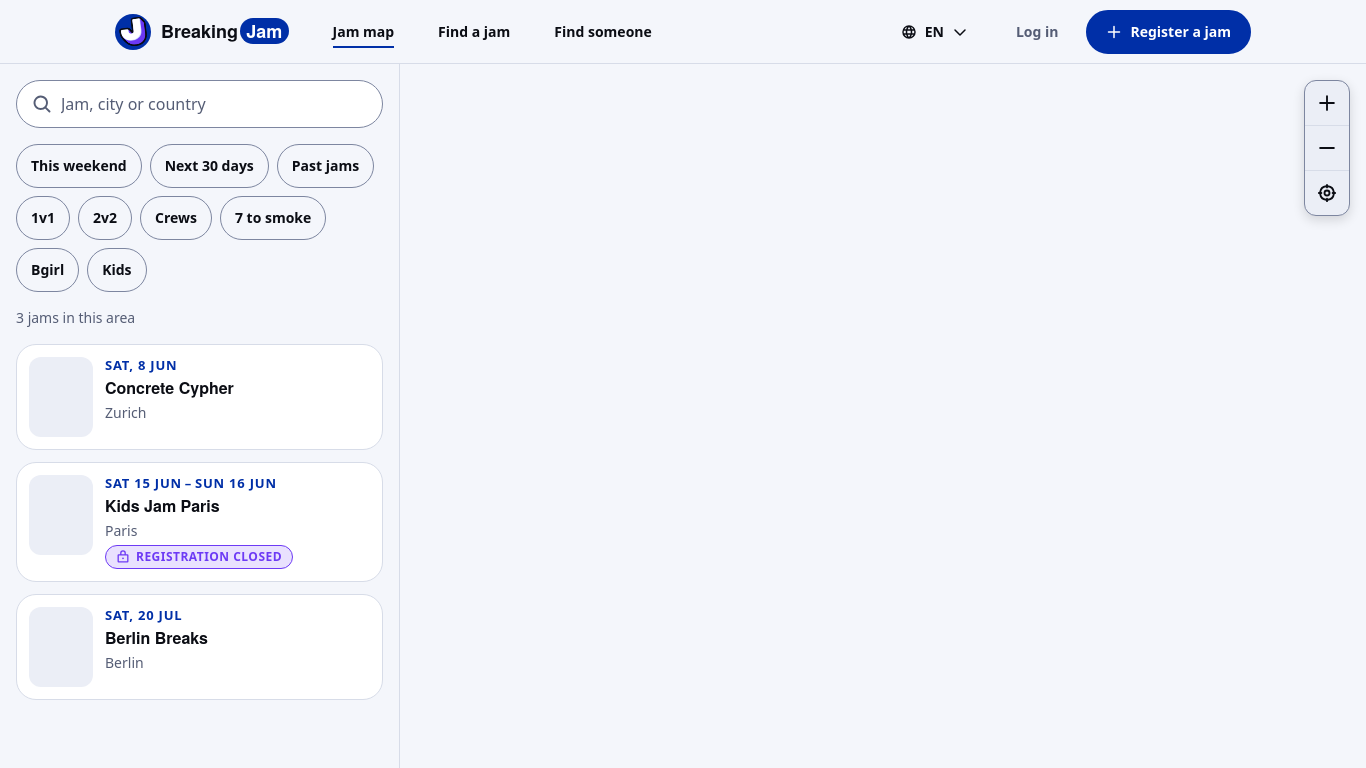
Test case: MapPage › says when nothing is in view and clears filters and search
expect the text "3 jams in this area" is shown: met, box [16,308,135,327]
Step 1. Type "nowhere" into the search field named "Search jams" → [200, 104], box [16,80,383,128]
Then press Enter
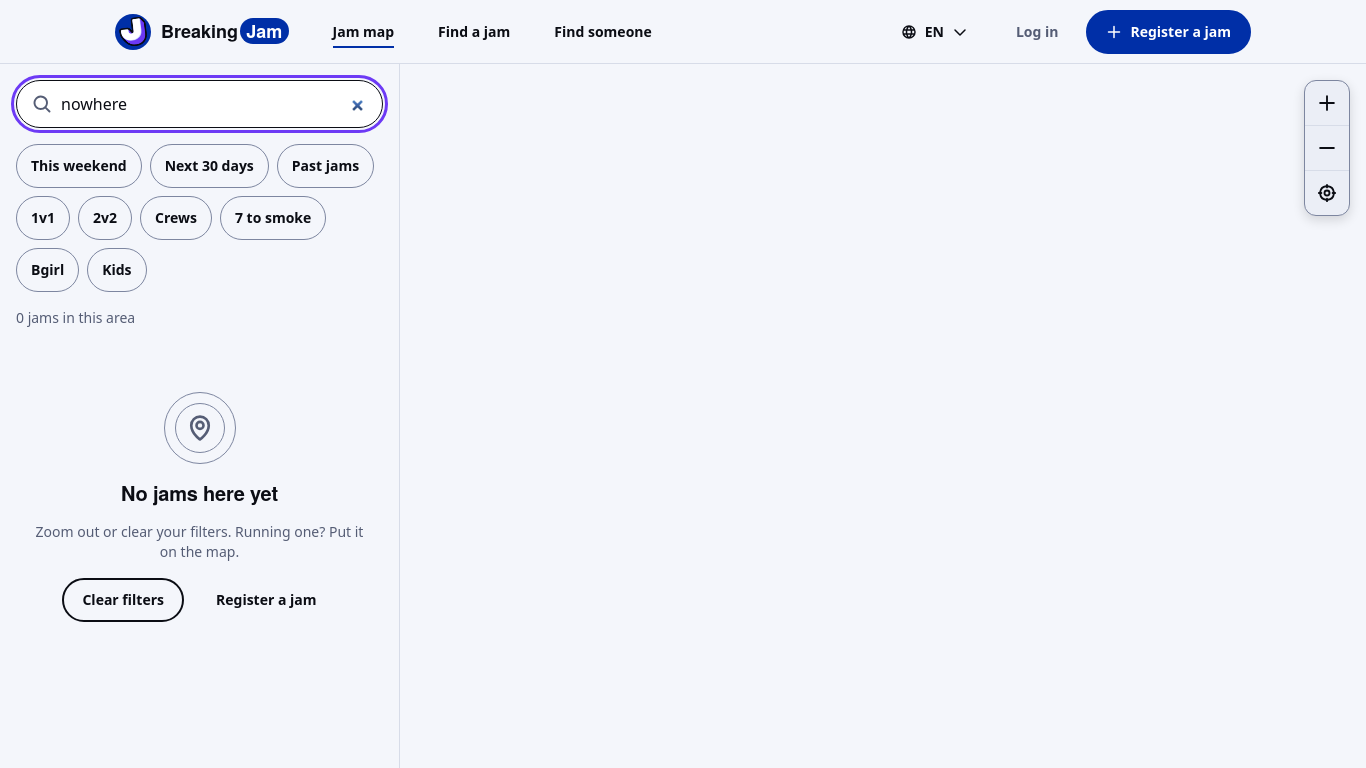
expect the heading "No jams here yet" is shown: met, box [121,480,278,506]
Step 2. Click the button "Clear filters" → [123, 600], box [62,578,184,622]
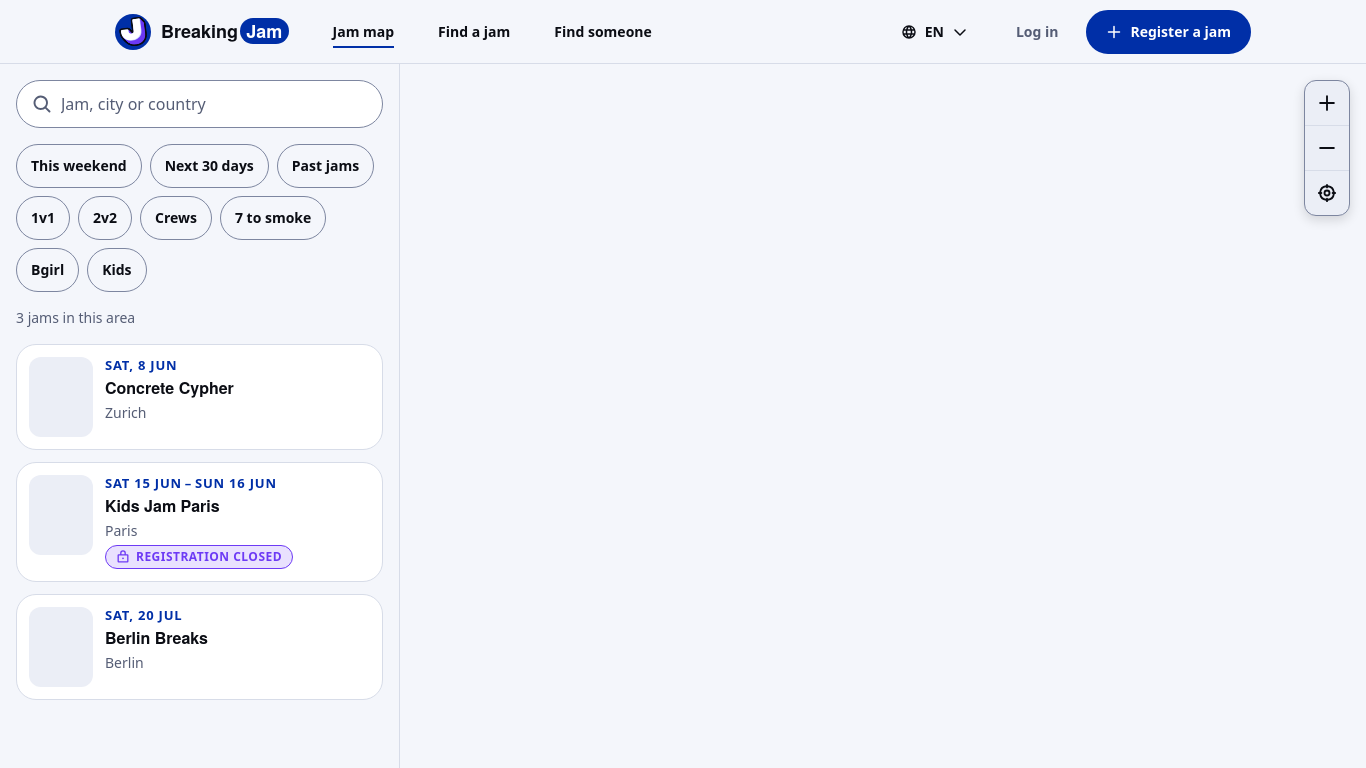
expect the text "3 jams in this area" is shown: met, box [16,308,135,327]
expect the search field named "Search jams" is empty: met, box [16,80,383,128]
